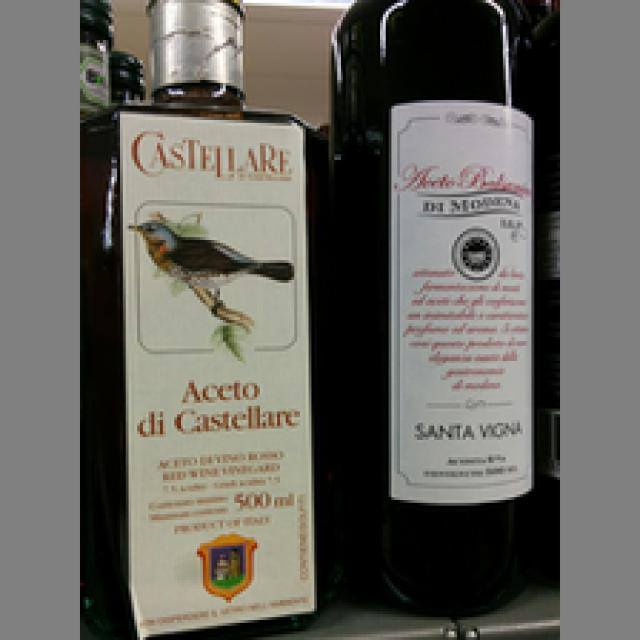groceries: (82, 0, 328, 634), (328, 0, 546, 617)
